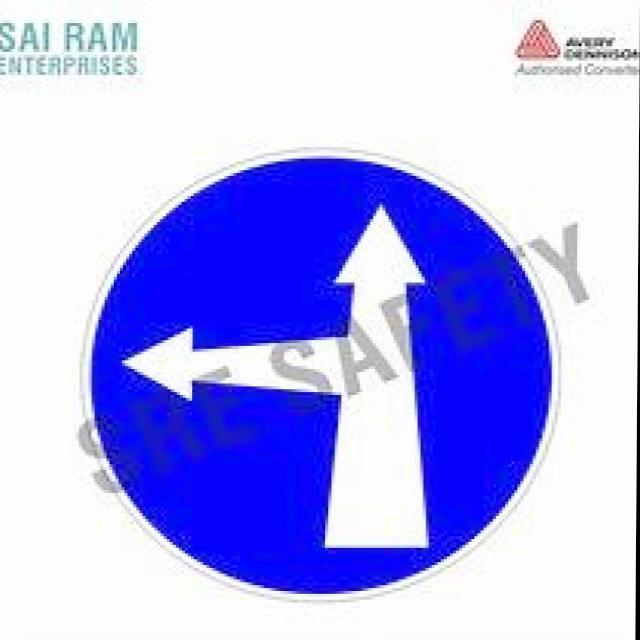COMPULSARY_AHEAD_OR_TURN_LEFT: (77, 146, 568, 612)
